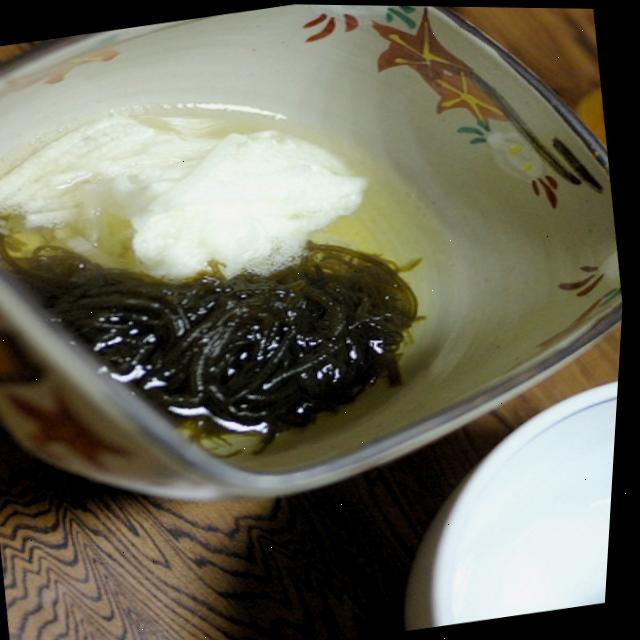蔬菜料理: (0, 0, 607, 531)
